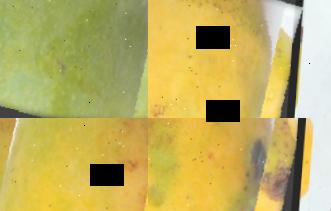PartiallyRipe: (0, 118, 148, 211)
Ripe: (148, 0, 297, 118), (148, 118, 302, 211)
Unripe: (0, 0, 148, 118)
